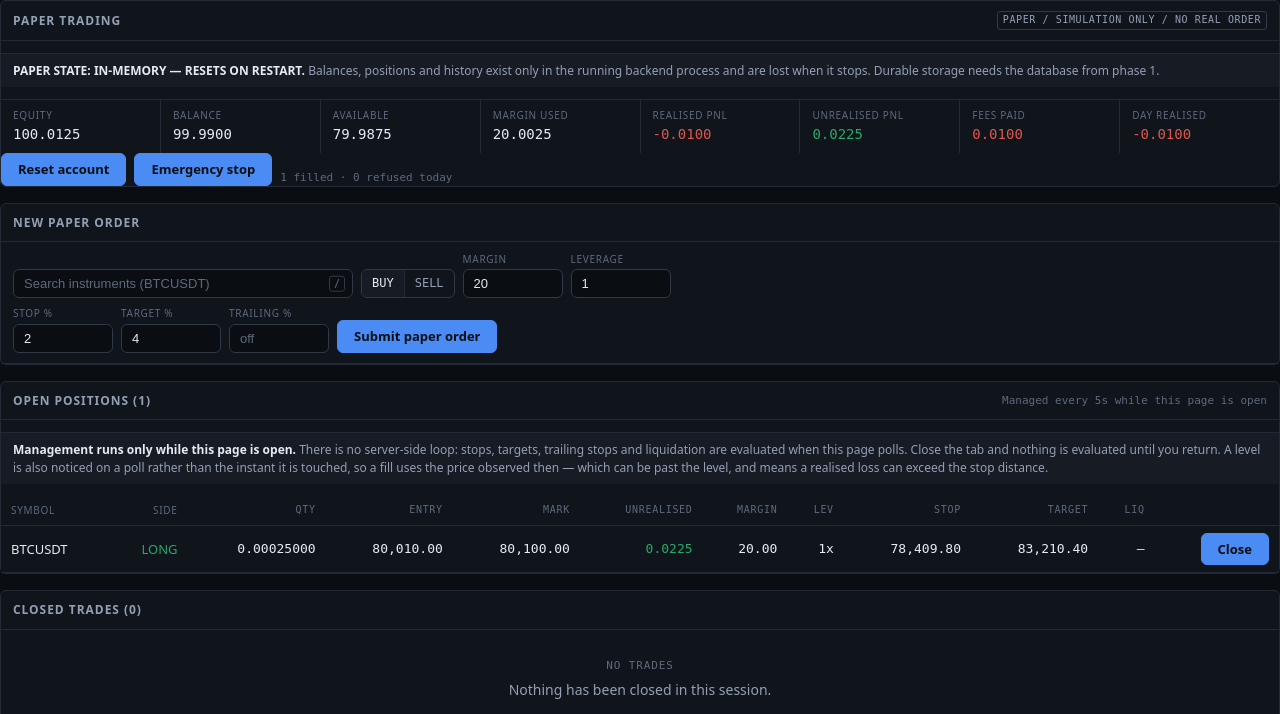
Test: PaperPage › shows the whole leverage chain on a refusal, not just the verdict
The image size is (1280, 714).
Expected: the text "Equity" is shown, 13,108 -> 52,122
Click the button "Submit paper order" at (417, 336), box 337,320 -> 498,353
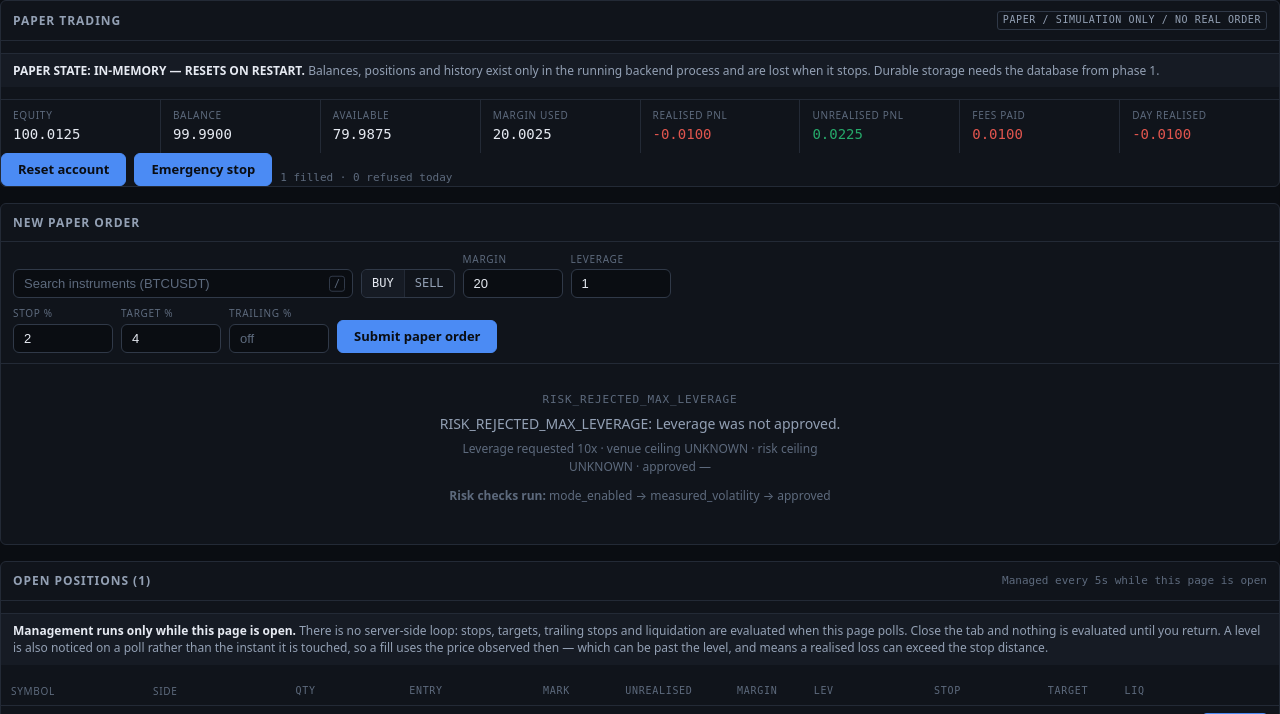
Now the text "Leverage requested 10x" shows "venue ceiling UNKNOWN", box 434,440 -> 846,475
Now the text "Leverage requested 10x" shows "risk ceiling UNKNOWN", box 434,440 -> 846,475
